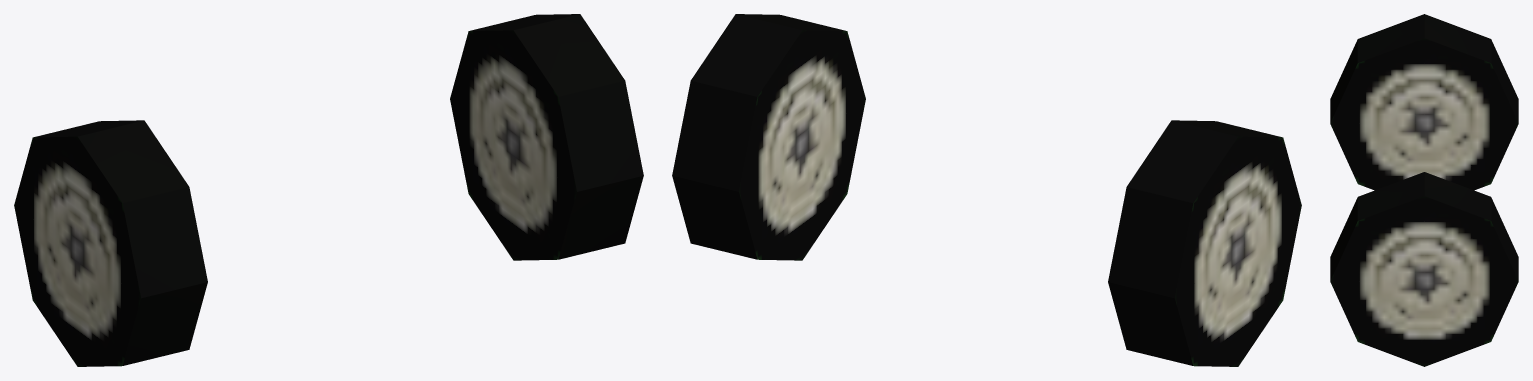
The model's file is landrover_wheels_f.obj.
3 views of the same model, side by side, from view 1: azimuth 30°, elevation 25°; view 2: azimuth 150°, elevation 25°; view 3: azimuth 270°, elevation 25° (orthographic). The views are drawn at different scales.
Visible parts, largest first — view 1: landrover_wheels_f; view 2: landrover_wheels_f; view 3: landrover_wheels_f.
Part boxes in pixels (left/top/right/bottom): landrover_wheels_f: left=14, top=14, right=643, bottom=366; landrover_wheels_f: left=672, top=14, right=1301, bottom=366; landrover_wheels_f: left=1330, top=14, right=1518, bottom=366.
Bounding box in the file's own units: 1.74 × 0.76 × 0.76.
1 material, 1 textured.
